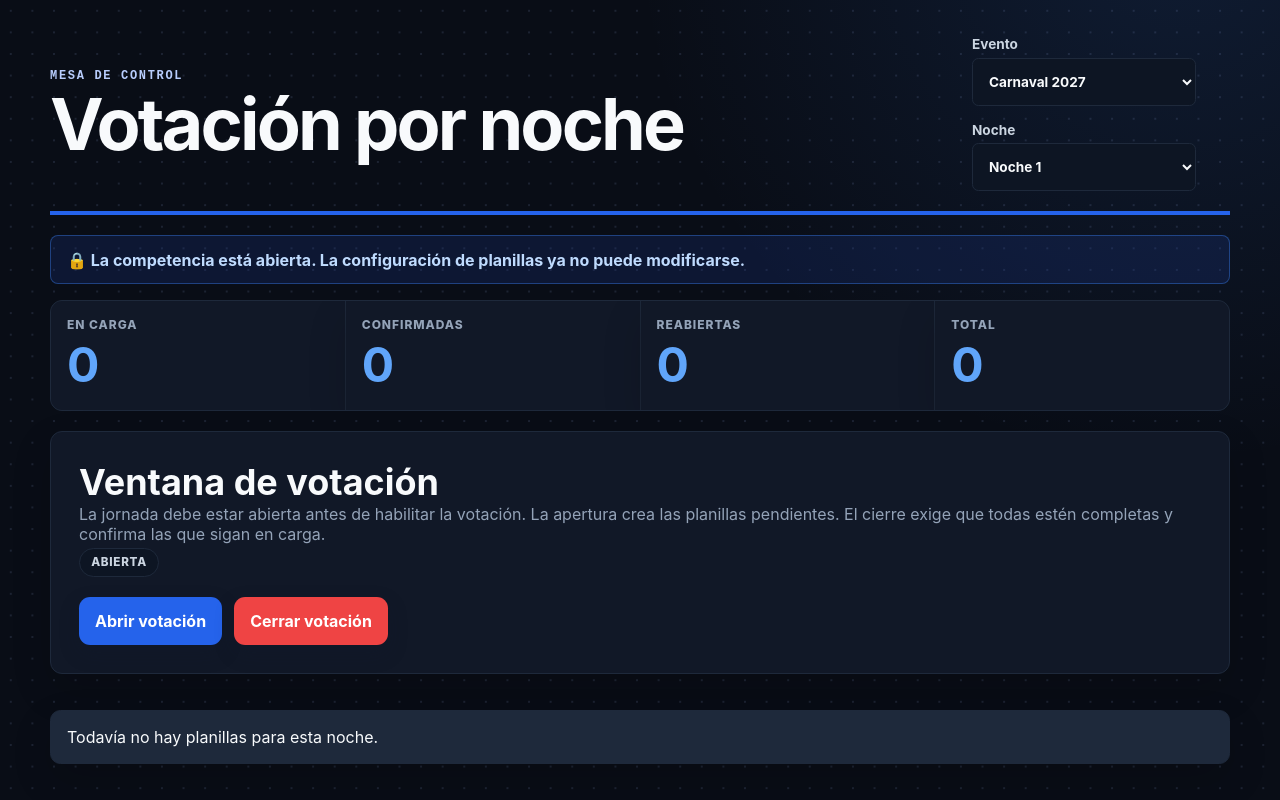
AdminVotingPage NIGHT_SCHEDULE_EMPTY › muestra mensaje humano al abrir votación sin comparsas programadas
What coordinates should you click on to do the following:
click the button "Abrir votación"
I would click on:
 (151, 621)
Its box is 79,597 -> 222,645.
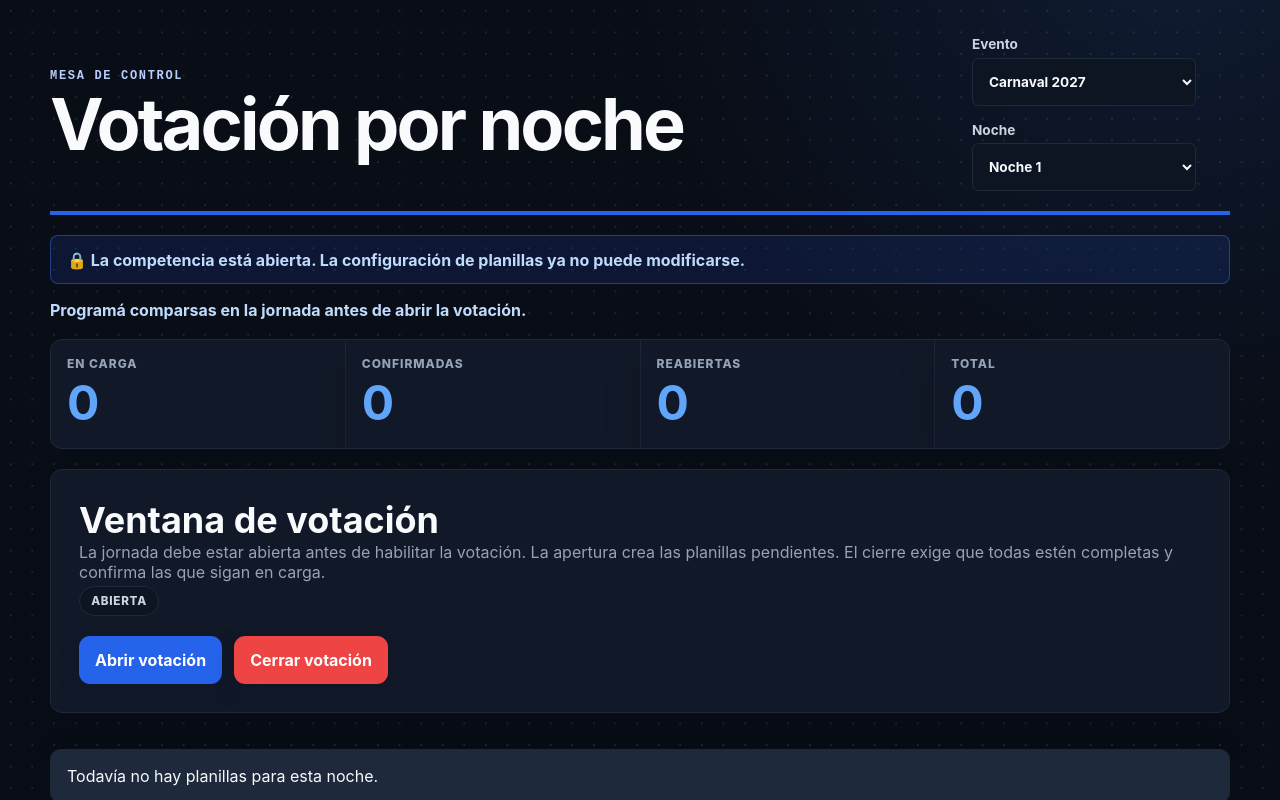
Expected: the text "Programá comparsas en la jornada antes de abrir la votación." is shown, 50,300 -> 526,320
